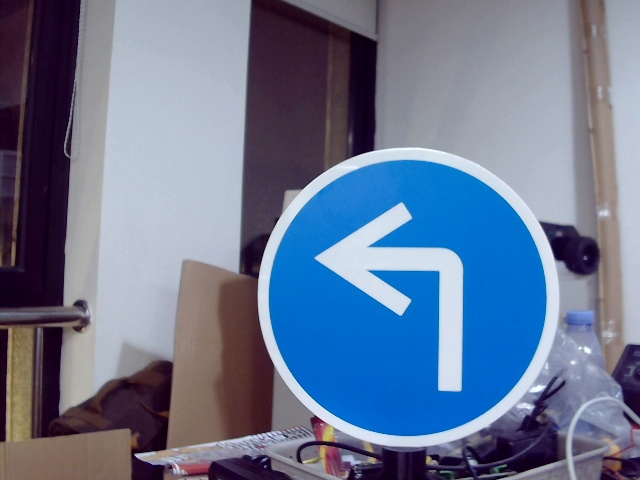turn_left: (318, 198, 472, 397)
